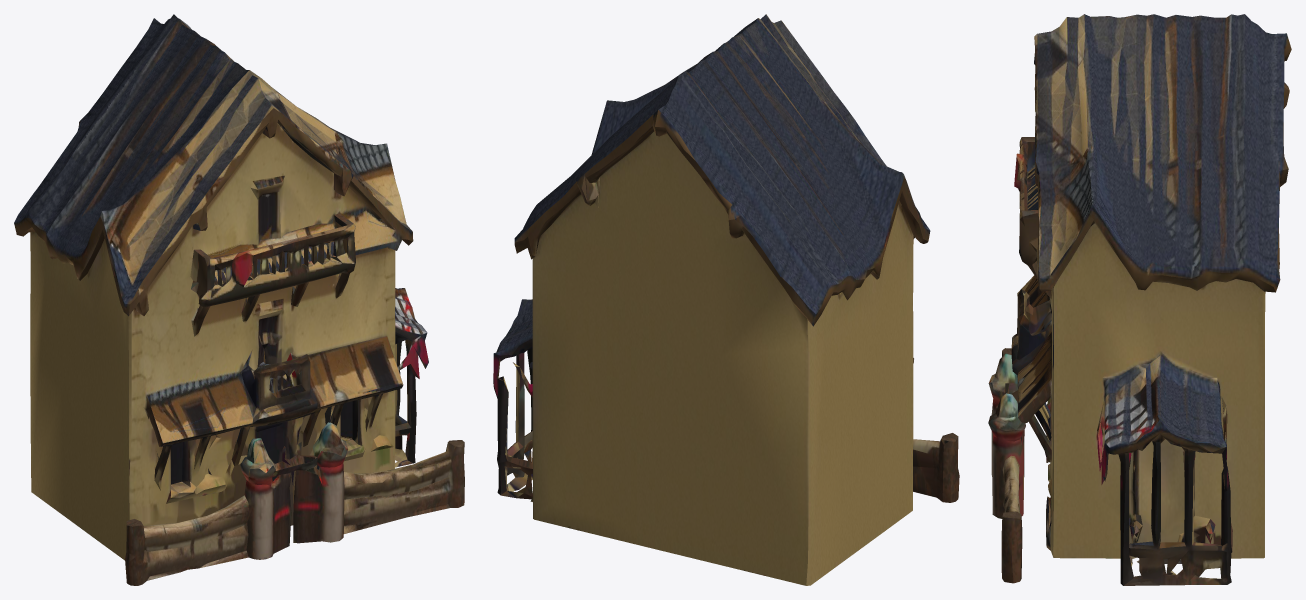
Rendered from guaranies_tava.glb.
The picture shows the model from 3 angles, left to right: view 1: azimuth 30°, elevation 25°; view 2: azimuth 150°, elevation 25°; view 3: azimuth 270°, elevation 25°; orthographic projection. The views are drawn at different scales.
Visible parts, largest first — view 1: geometry_0; view 2: geometry_0; view 3: geometry_0.
Part boxes in pixels (box(x1,y1,x2,y2)): geometry_0: box(14, 14, 464, 585); geometry_0: box(493, 14, 959, 585); geometry_0: box(988, 14, 1291, 585).
Bounding box in the file's own units: 3.4 × 4.2 × 2.42.
Materials: 1 (1 with a texture image).
